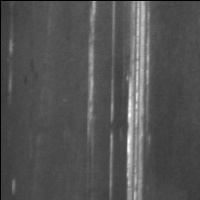scratches: (119, 1, 155, 200), (83, 1, 99, 136)
